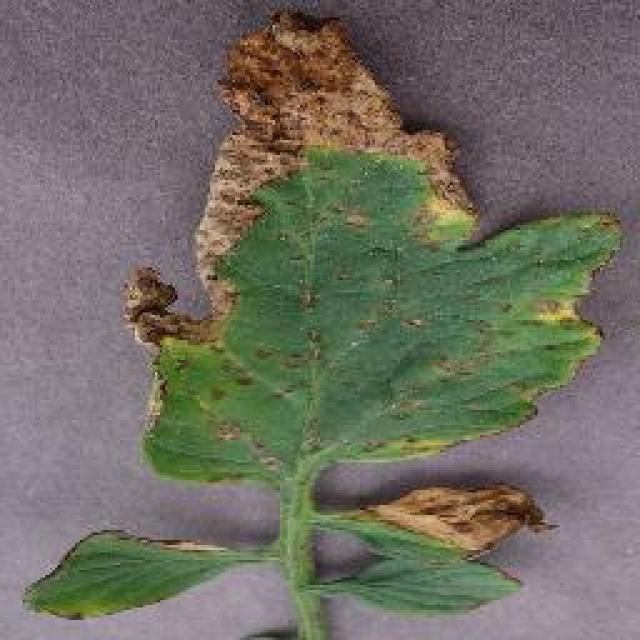Tomato bacterial spot leaf: (123, 1, 627, 488), (20, 520, 244, 628), (342, 483, 558, 567)
